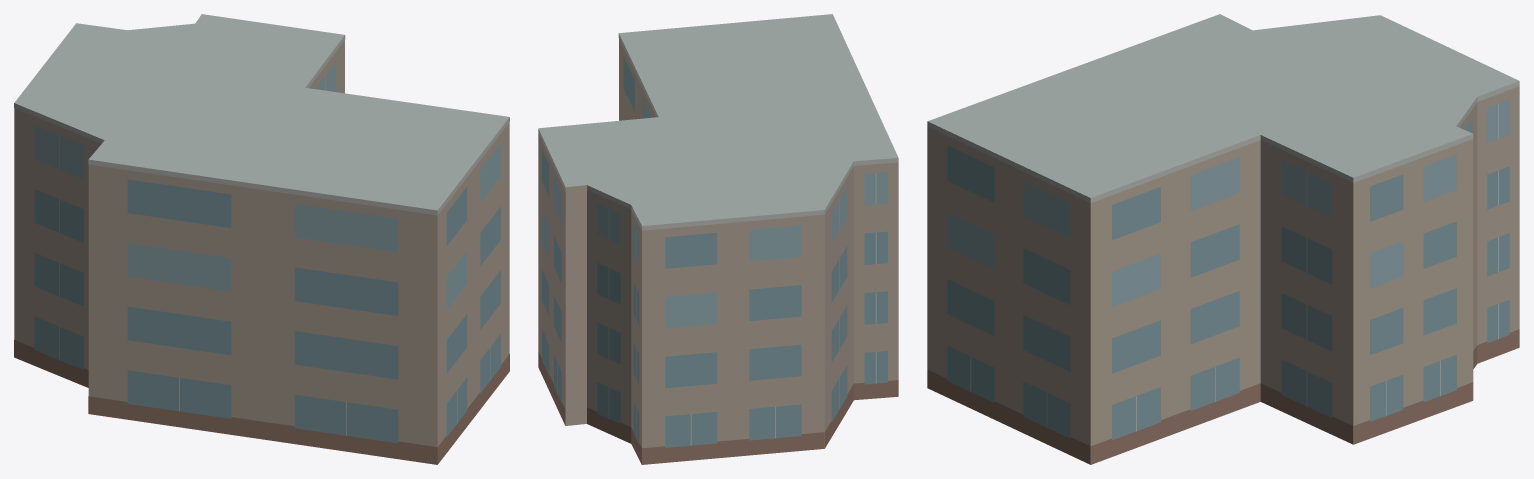
File: survey-upis-32625584.glb
3 views of the same model, side by side, from view 1: azimuth 30°, elevation 25°; view 2: azimuth 150°, elevation 25°; view 3: azimuth 270°, elevation 25° (orthographic). The views are drawn at different scales.
Visible parts, largest first — view 1: survey-upis-32625584.tmp; view 2: survey-upis-32625584.tmp; view 3: survey-upis-32625584.tmp.
Boxes of the visible parts, x1,y1,x2,y2 form: survey-upis-32625584.tmp: (14, 14, 509, 464); survey-upis-32625584.tmp: (538, 14, 898, 464); survey-upis-32625584.tmp: (927, 14, 1519, 464).
Size of the model in its own units: 18.66 by 12.61 by 25.37.
